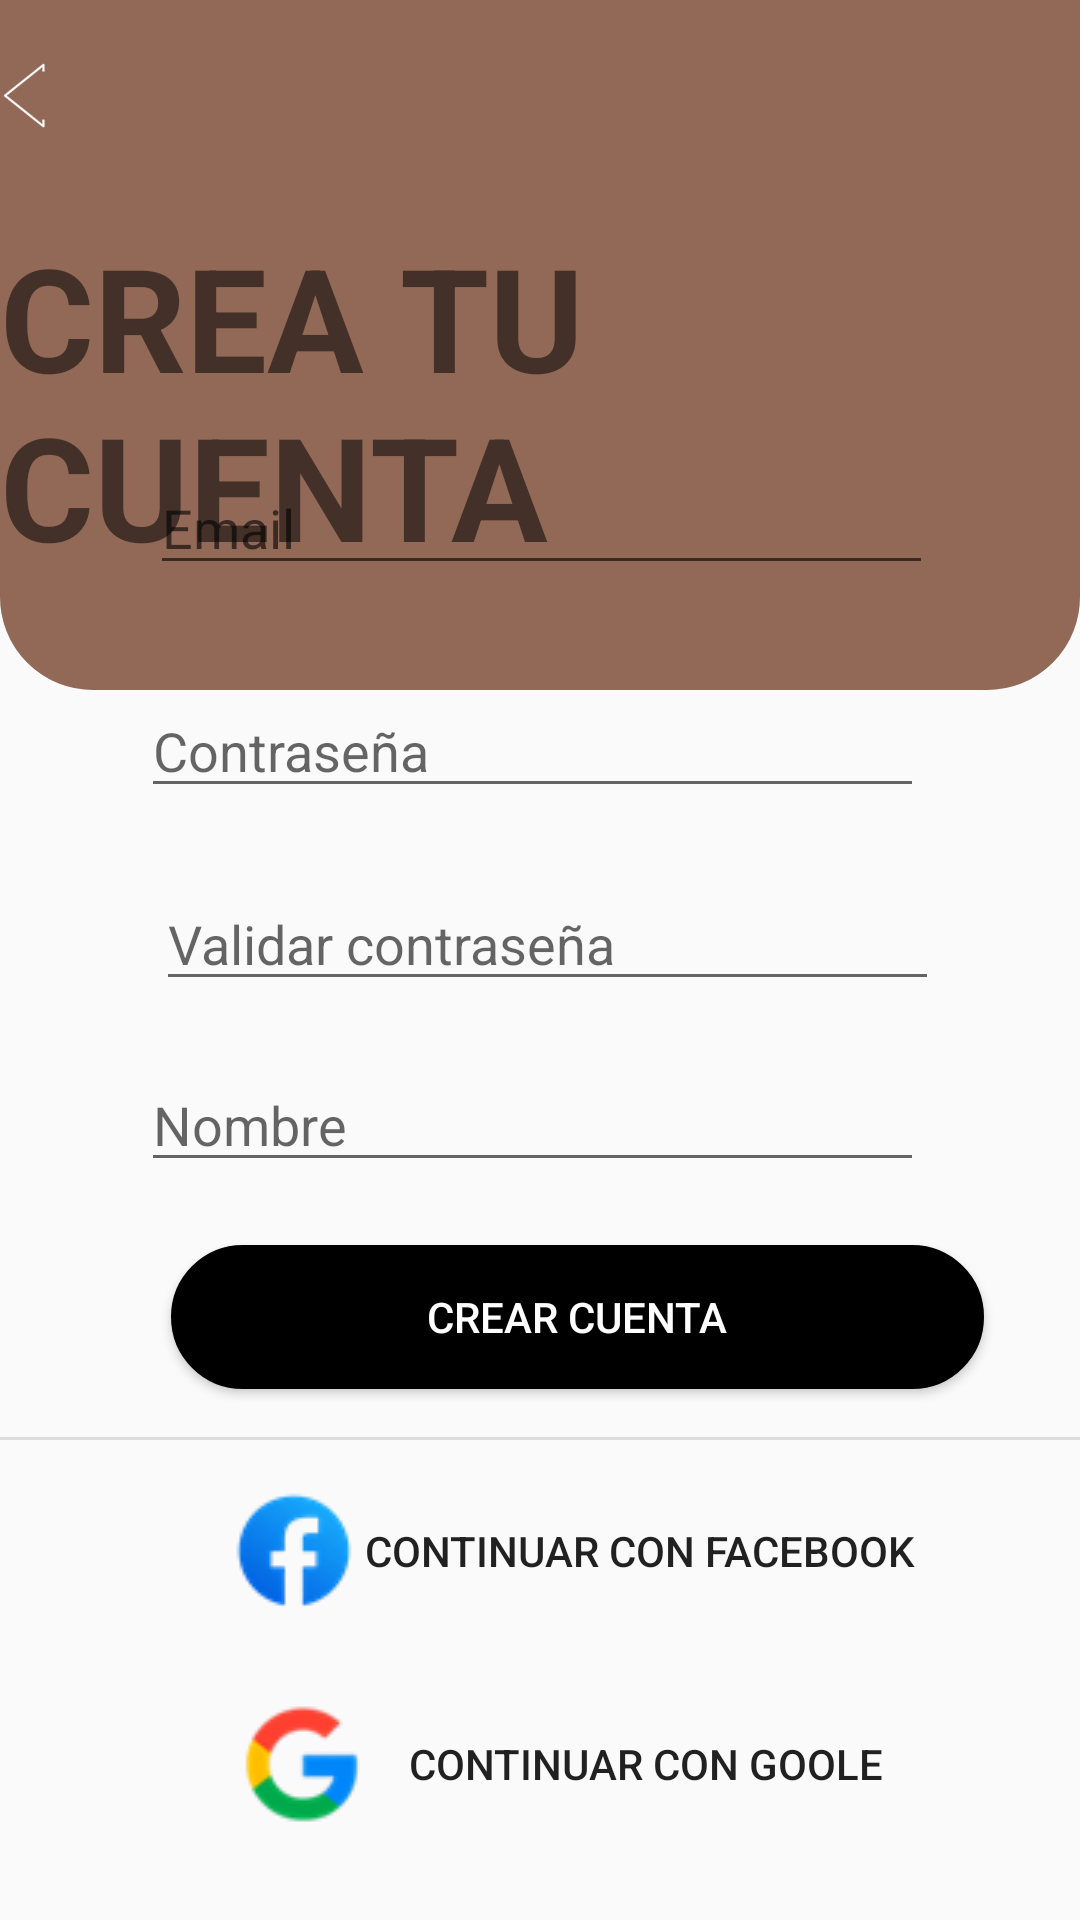

Icons on this 1080×1920 Android screen, each with its box as (x1, y1, x2, y2):
flecha: (4, 63, 45, 128)
